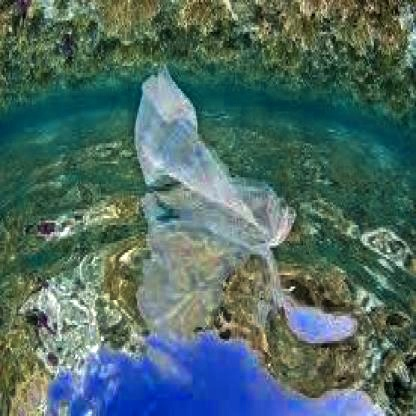pbag: (133, 61, 297, 254)
